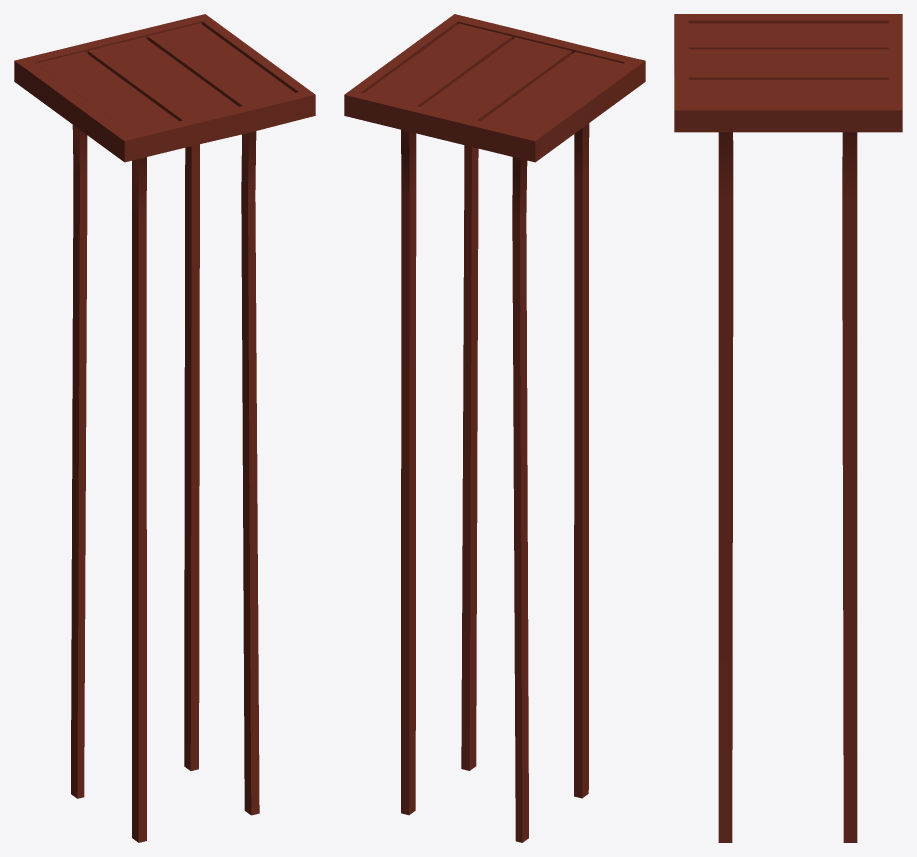
Rendered from Plataforma.fbx.
3 renders of one model, left to right at view 1: azimuth 30°, elevation 25°; view 2: azimuth 150°, elevation 25°; view 3: azimuth 270°, elevation 25°, orthographic. The views are drawn at different scales.
Visible parts, largest first — view 1: Platform; view 2: Platform; view 3: Platform.
Boxes of the visible parts, box(x1,y1,x2,y2) form: Platform: box(14, 14, 315, 842); Platform: box(344, 14, 645, 842); Platform: box(674, 14, 902, 842).
Size of the model in its own units: 6.96 by 25.26 by 6.96.
